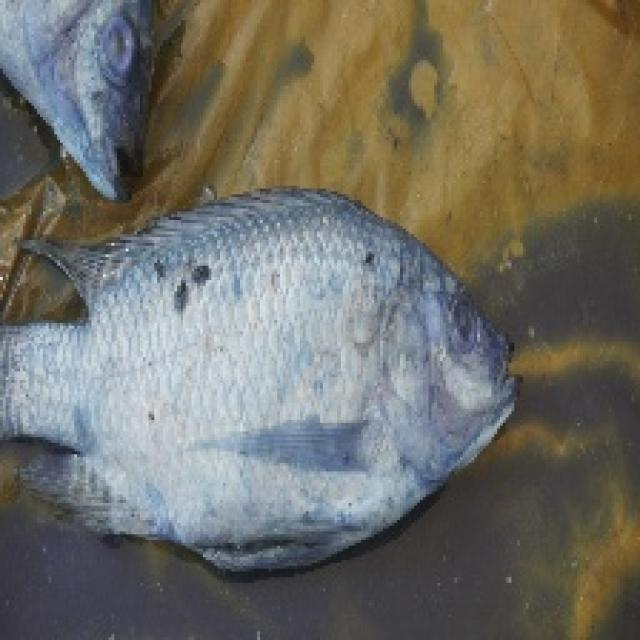Non-Fresh: (17, 205, 536, 561), (80, 9, 160, 105)
